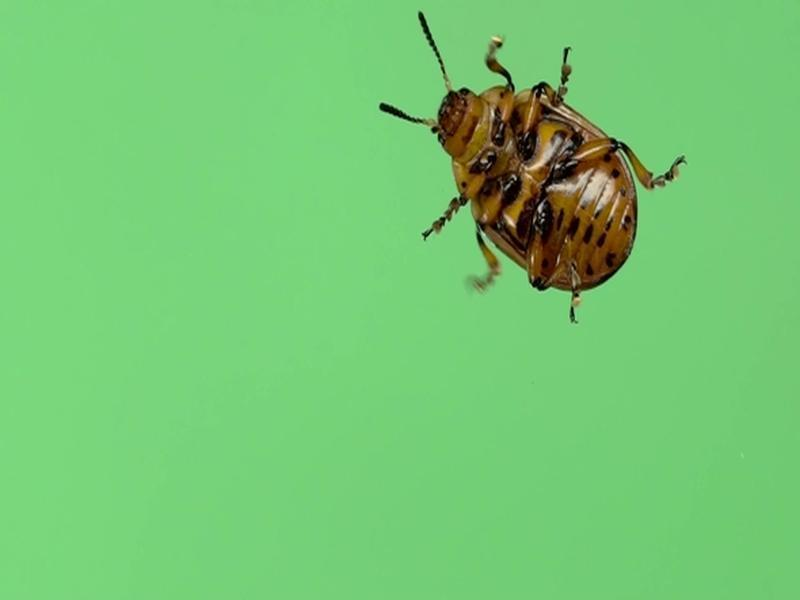hrosc: (414, 46, 673, 326)
